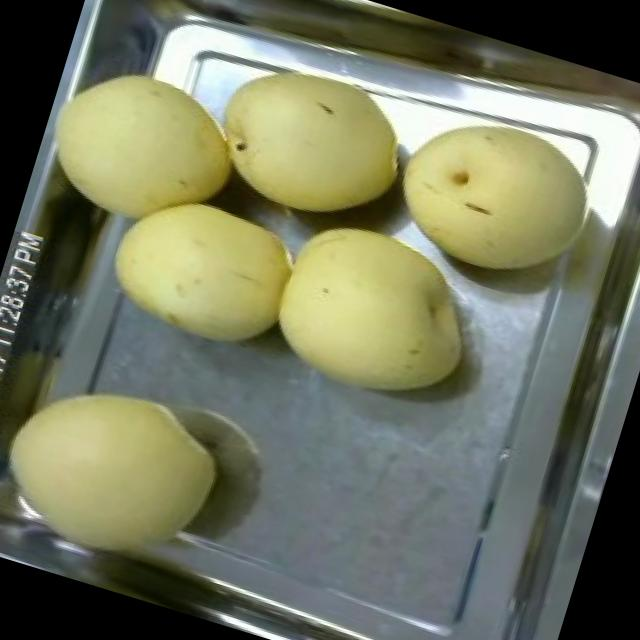Fruit: (0, 347, 244, 601), (244, 188, 500, 426), (364, 85, 612, 306), (78, 162, 319, 372), (27, 42, 258, 257), (184, 45, 427, 249)
